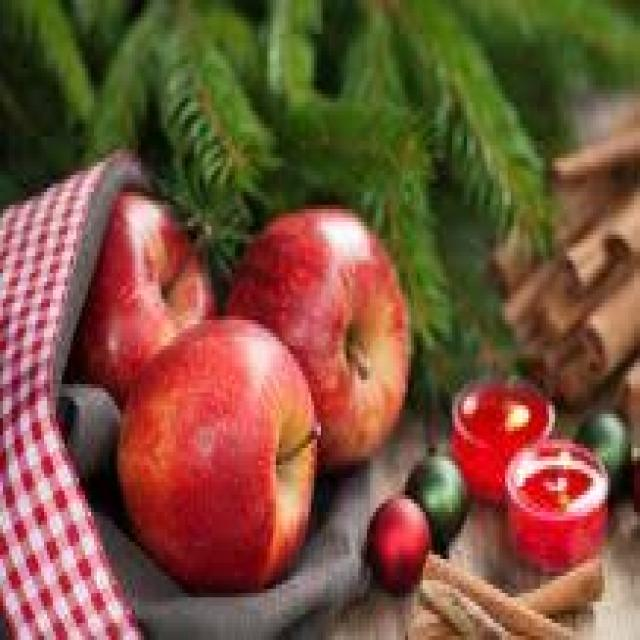organic waste: (262, 0, 538, 371), (0, 0, 276, 265), (112, 312, 317, 593), (220, 201, 411, 474), (493, 120, 637, 410), (68, 188, 220, 397), (464, 0, 637, 141)
